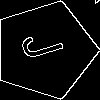J: (20, 25, 74, 63)
